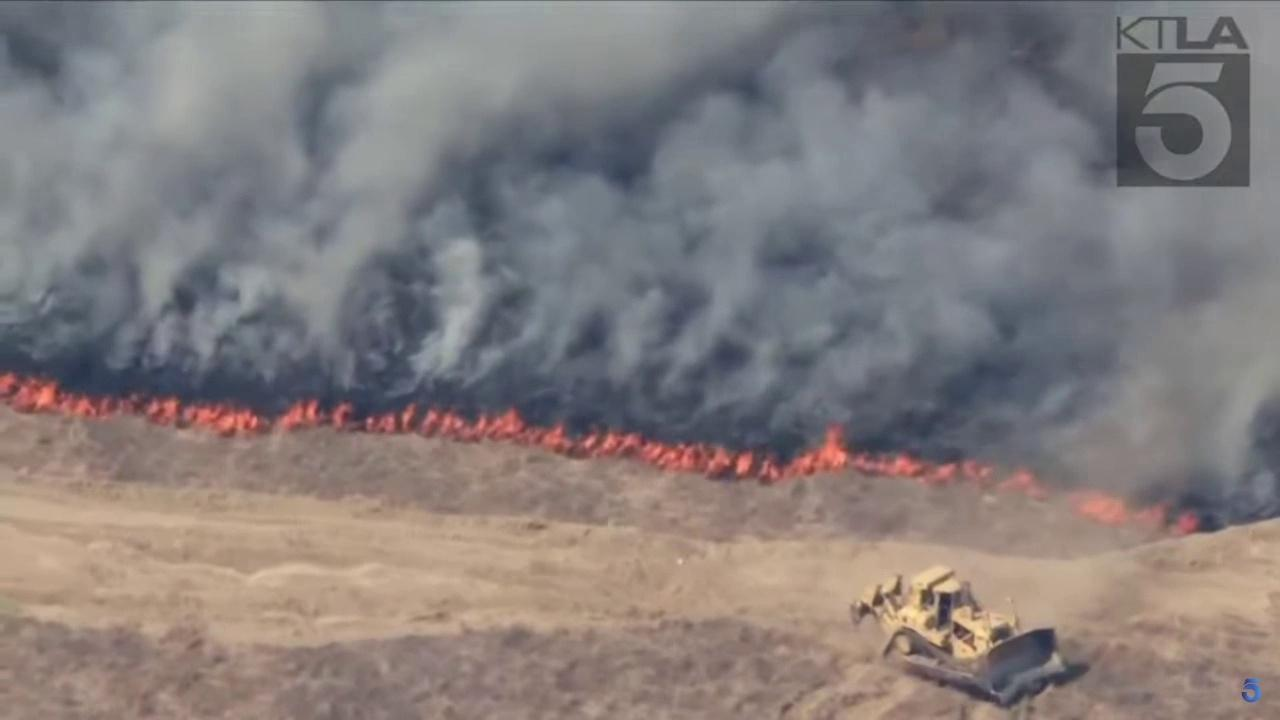fire: (0, 368, 1049, 503), (1069, 484, 1201, 537)
smoke: (0, 0, 1280, 523)
